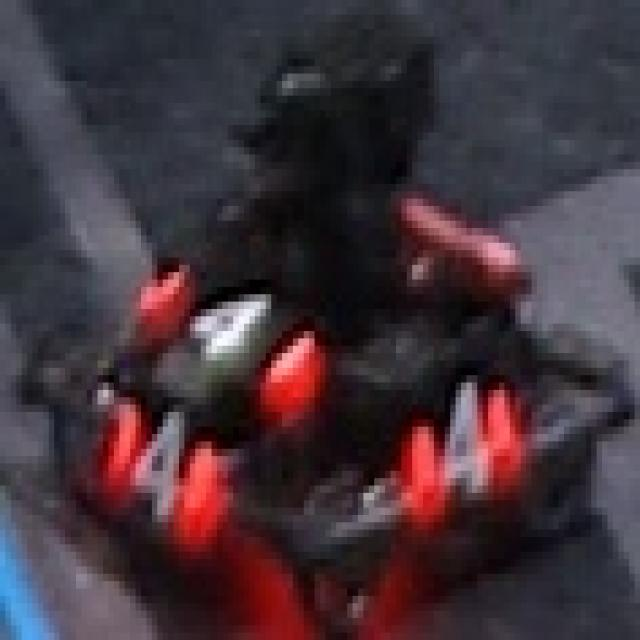R4: (402, 368, 516, 508), (98, 397, 217, 530)
